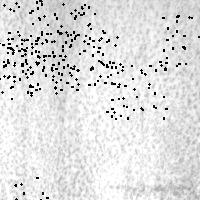pitted_surface: (1, 1, 199, 198), (59, 30, 117, 89), (106, 61, 165, 118), (3, 35, 62, 92), (50, 30, 108, 86), (0, 38, 48, 98), (35, 0, 94, 43), (0, 38, 45, 94), (162, 15, 200, 69), (0, 0, 47, 40), (0, 177, 49, 200)
